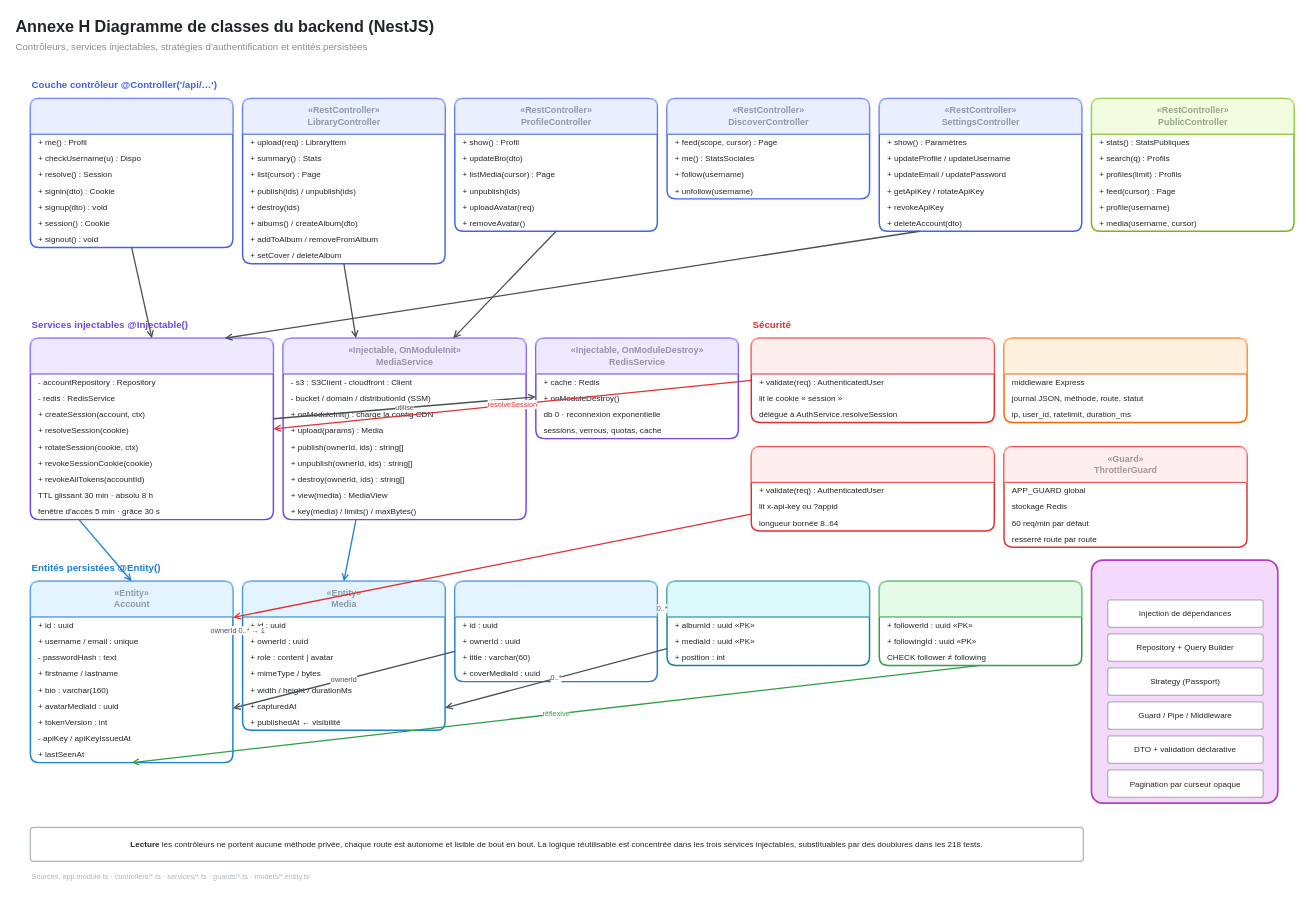
The diagram is 1308 pixels wide and 897 high, and some of its shapes have lost their labels. The shapes that lost their labels are listed below. From the top down, each one's box as (x1, y1, x2, y2) in pixels, then its label:
(29, 97, 233, 248): «RestController» AuthController
(750, 337, 995, 423): «PassportStrategy» AccessTokenStrategy
(1003, 337, 1247, 423): «Middleware» accessLog
(29, 337, 274, 520): «Injectable» AuthService
(750, 446, 995, 531): «PassportStrategy» ApiKeyStrategy
(454, 580, 658, 682): «Entity» Album
(666, 580, 870, 666): «Entity» Placement
(878, 580, 1082, 666): «Entity» Follow
(1090, 559, 1278, 804): PATRONS DE CONCEPTION APPLIQUÉS
